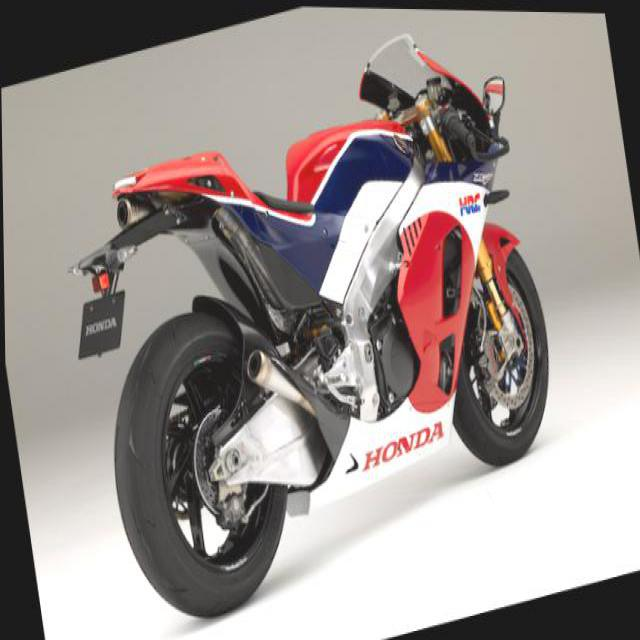HRC RCV 213: (41, 0, 577, 639)
